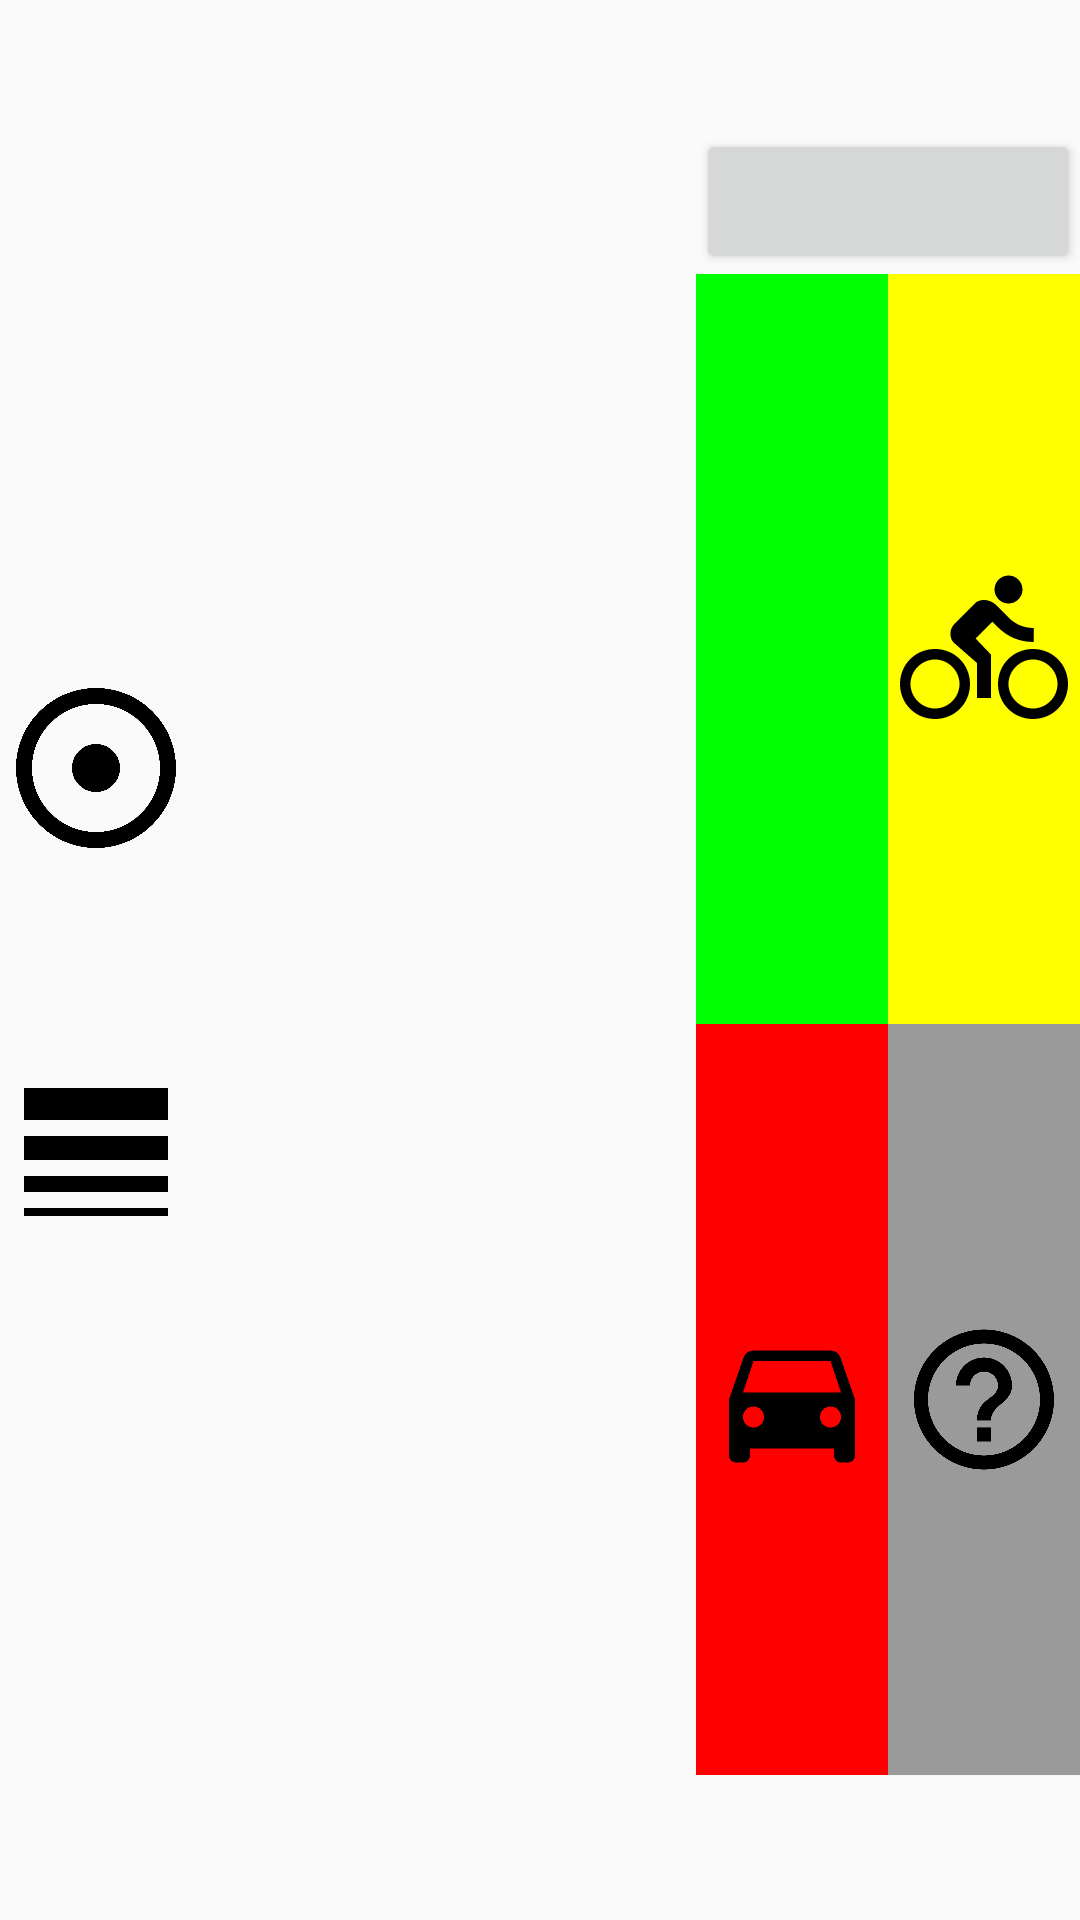

Icon bounding boxes for this 1080w x 1920h phone screenshot, format (x1, y1, x2, y2):
line weight: (24, 1088, 168, 1216)
